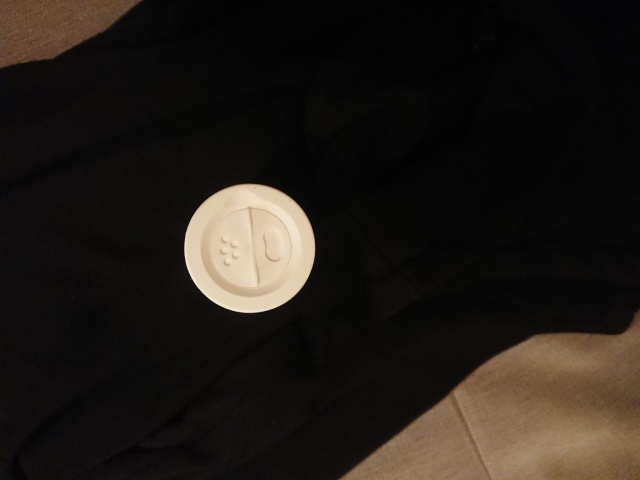Solana Pag Fine Sea Salt 250g: (181, 181, 318, 316)
